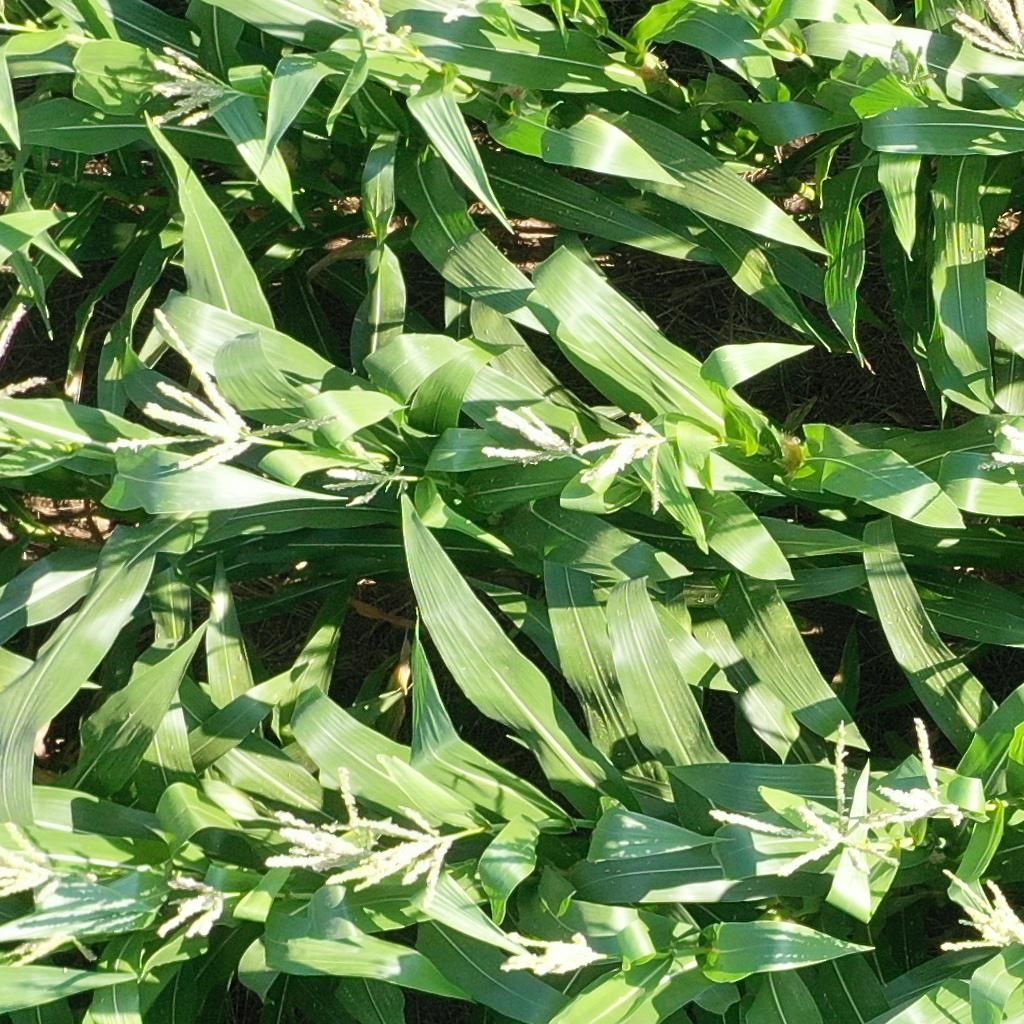Tassel: (110, 304, 341, 475), (710, 718, 900, 877), (323, 805, 462, 906), (864, 715, 970, 834), (261, 763, 369, 871), (576, 408, 678, 517), (148, 41, 244, 126), (935, 866, 1024, 956), (319, 439, 415, 512), (496, 924, 613, 983), (481, 401, 581, 470), (157, 864, 239, 943), (1, 822, 68, 900), (331, 1, 416, 59), (953, 1, 1024, 57), (887, 39, 938, 89), (989, 418, 1024, 468)
